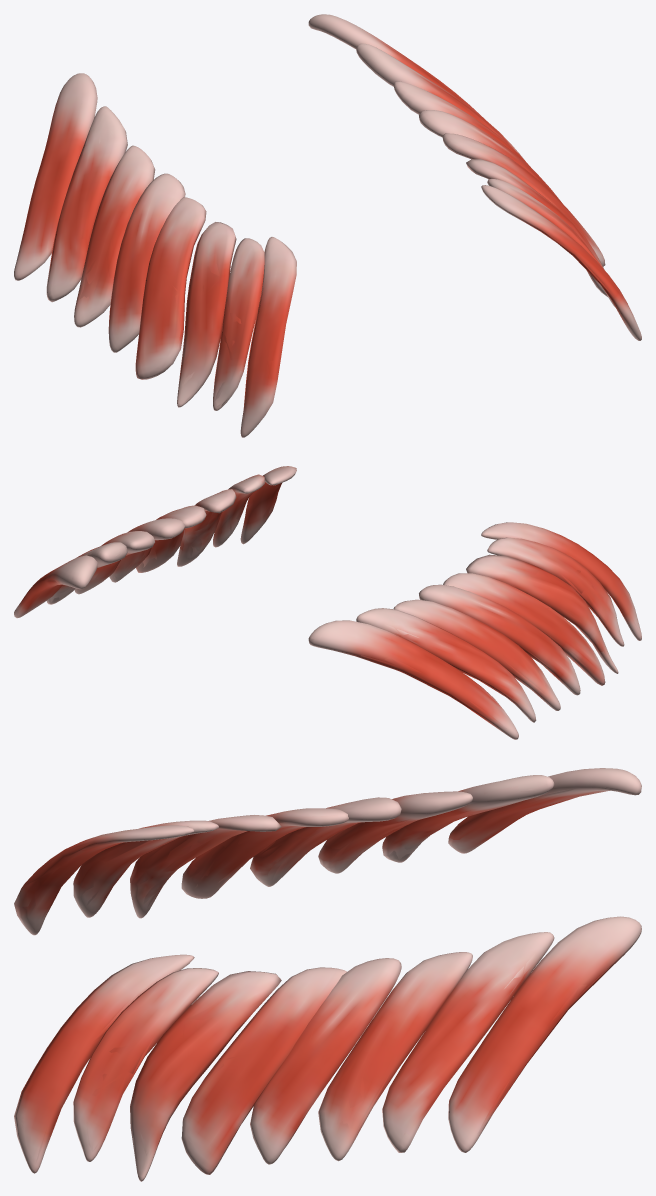
File: serratus dorsalis caudalis.fbx
3 views of the same model, one above another, from view 1: azimuth 30°, elevation 25°; view 2: azimuth 150°, elevation 25°; view 3: azimuth 270°, elevation 25° (orthographic). The views are drawn at different scales.
Visible parts, largest first — view 1: serratus dorsalis caudalis, serratus dorsalis caudalis low; view 2: serratus dorsalis caudalis, serratus dorsalis caudalis low; view 3: serratus dorsalis caudalis, serratus dorsalis caudalis low.
Part boxes in pixels (x1,y1,x2,y2): serratus dorsalis caudalis: (14, 14, 641, 437); serratus dorsalis caudalis low: (17, 24, 632, 436); serratus dorsalis caudalis: (14, 466, 641, 739); serratus dorsalis caudalis low: (16, 466, 641, 734); serratus dorsalis caudalis: (14, 768, 641, 1181); serratus dorsalis caudalis low: (14, 771, 641, 1181).
Bounding box in the file's own units: 46.41 × 14.98 × 40.66.
